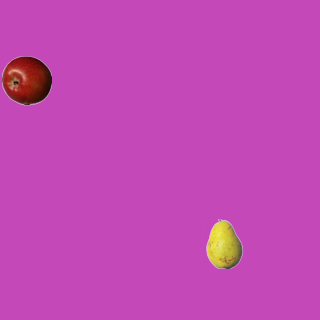Apple Braeburn: (1, 55, 51, 105)
Pear Monster: (199, 218, 249, 268)
